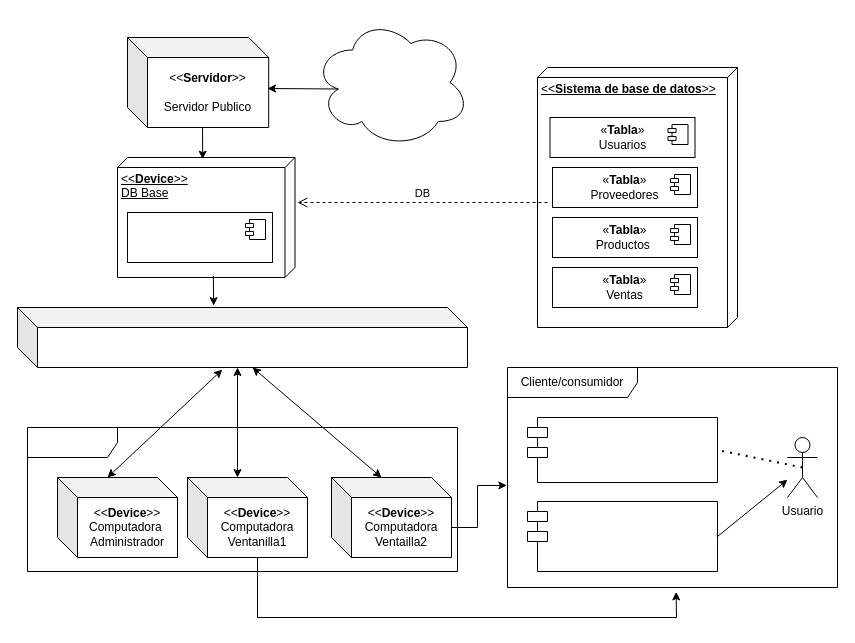
The diagram is 855 pixels wide and 643 high, and some of its shapes have lost their labels. Here are the shapes that lost their labels. From the top down, the centre of each, then its label:
point 391,82: << Servidor >> CLOUD
point 199,237: « Artifact » MySql Workbench
point 242,337: << Red >> Red local
point 622,449: Modo de Pago * Efectivo * Tarjeta (credito/debito)
point 242,499: Farmacia
point 622,536: Impresion de Comprobante * Factura y detalle de compra
